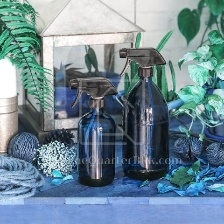bottle: (120, 63, 174, 183), (74, 94, 118, 190)
